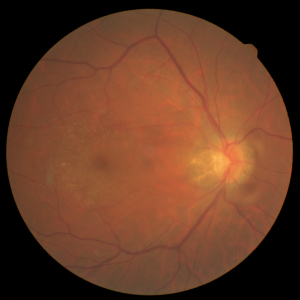retina_disease: (75, 94, 270, 214)
